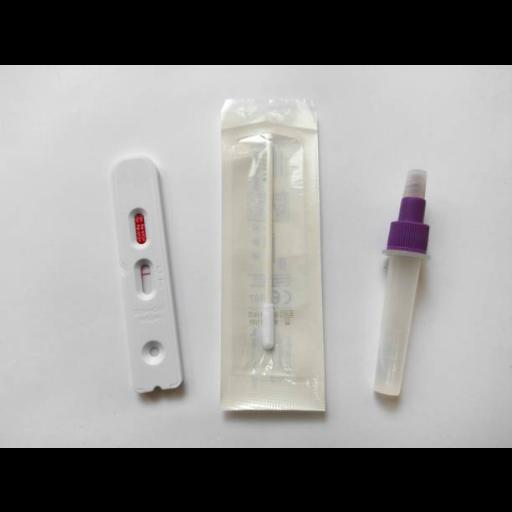Neg: (103, 155, 184, 393)
